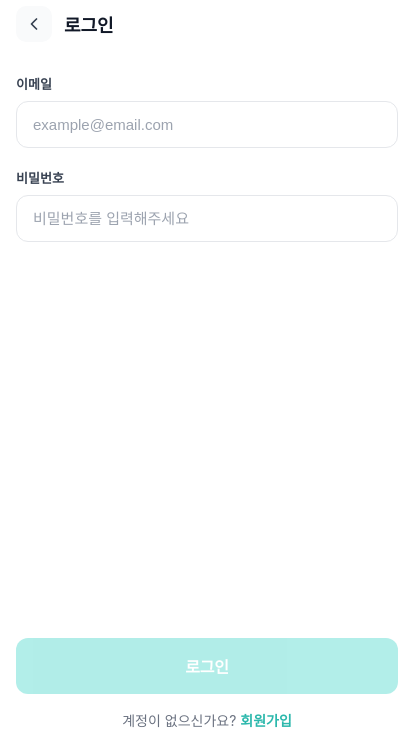
LoginPage › shows error on login failure
Type "wrong@test.com" into the field with placeholder "example@email.com" at coordinates (207, 124), box x1=16 y1=101 x2=398 y2=148
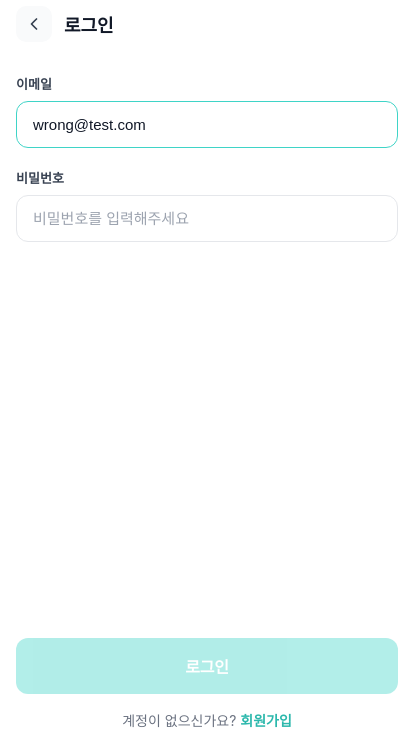
Type "wrongpass" into the password field with placeholder "비밀번호를 입력해주세요" at coordinates (207, 218), box x1=16 y1=195 x2=398 y2=242
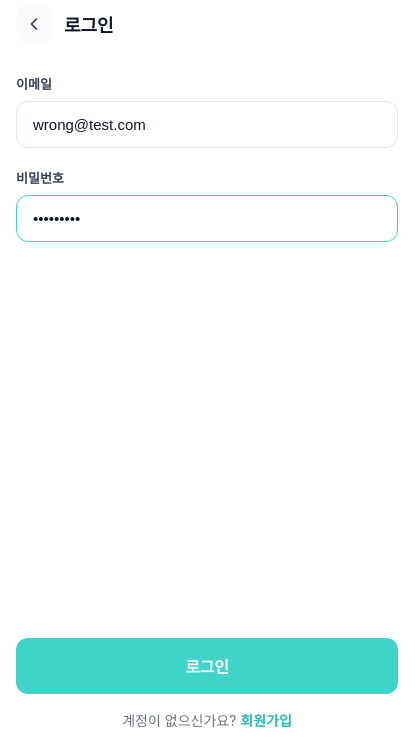
Click the button "로그인" at coordinates (207, 666), box x1=16 y1=638 x2=398 y2=694
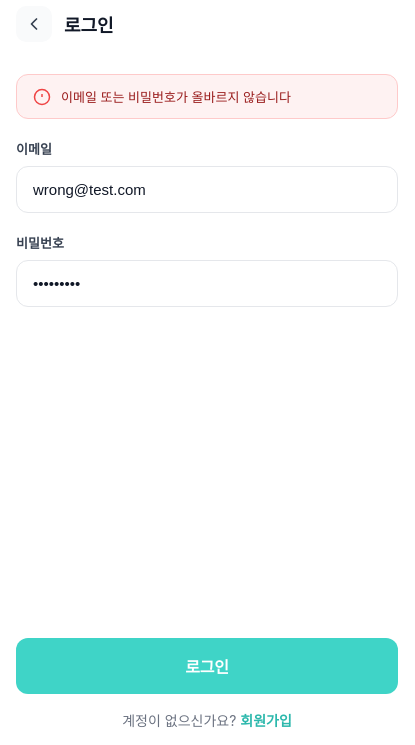
expect the text "이메일 또는 비밀번호가 올바르지 않습니다" is shown: met, box x1=16 y1=74 x2=398 y2=119
